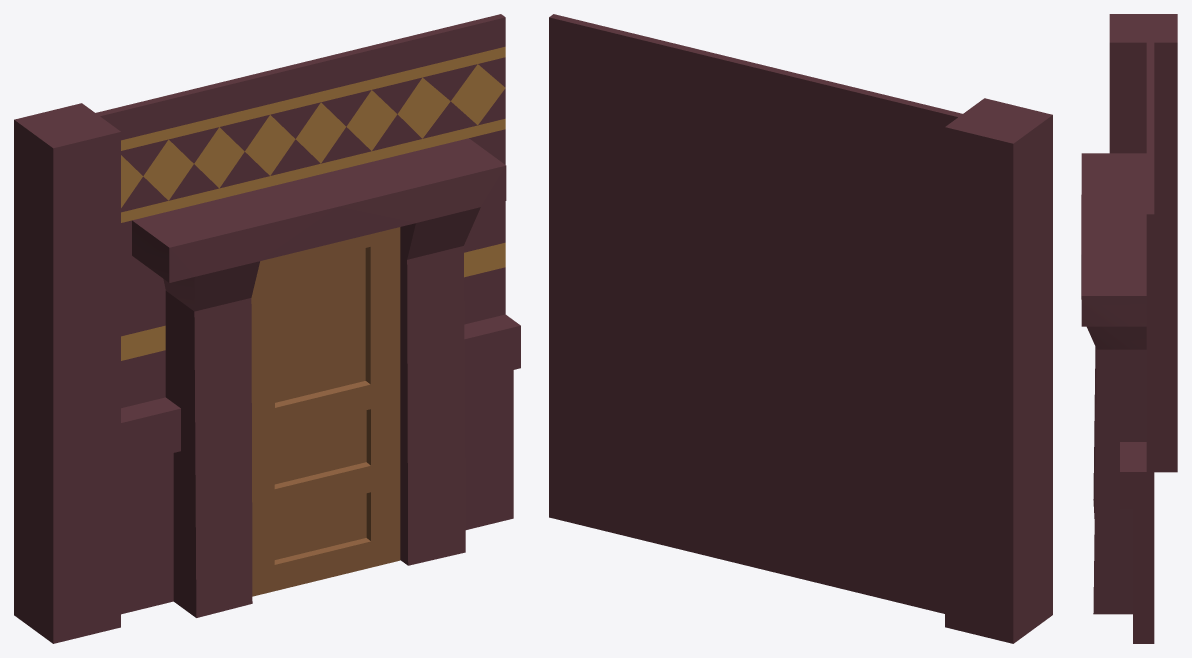
Rendered from SM_Wall_Door_R_3x3m_Empire.fbx.
3 views of the same model, side by side, from view 1: azimuth 30°, elevation 25°; view 2: azimuth 150°, elevation 25°; view 3: azimuth 270°, elevation 25° (orthographic). The views are drawn at different scales.
Visible parts, largest first — view 1: SM_Wall_Door_R_3x3m_Empire; view 2: SM_Wall_Door_R_3x3m_Empire; view 3: SM_Wall_Door_R_3x3m_Empire.
Part boxes in pixels (x1=…): SM_Wall_Door_R_3x3m_Empire: x1=14, y1=14, x2=520, y2=643; SM_Wall_Door_R_3x3m_Empire: x1=549, y1=14, x2=1052, y2=643; SM_Wall_Door_R_3x3m_Empire: x1=1081, y1=14, x2=1177, y2=643.
Size of the model in its own units: 3 by 3 by 0.6096.
